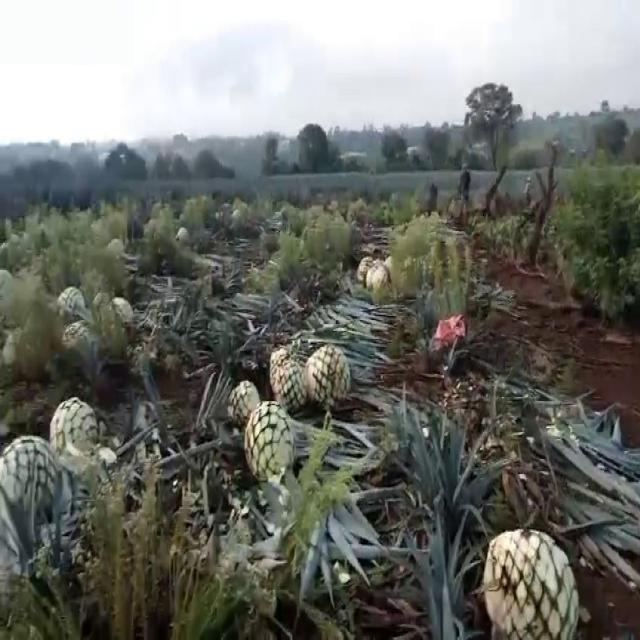agave: (480, 522, 584, 640), (3, 430, 61, 537), (242, 398, 294, 487), (48, 392, 99, 466), (304, 342, 346, 407), (226, 380, 262, 433), (276, 356, 305, 415), (56, 277, 85, 321), (59, 318, 92, 356), (268, 339, 290, 389), (109, 292, 135, 327), (371, 268, 388, 294), (357, 253, 372, 279), (364, 262, 378, 288)
